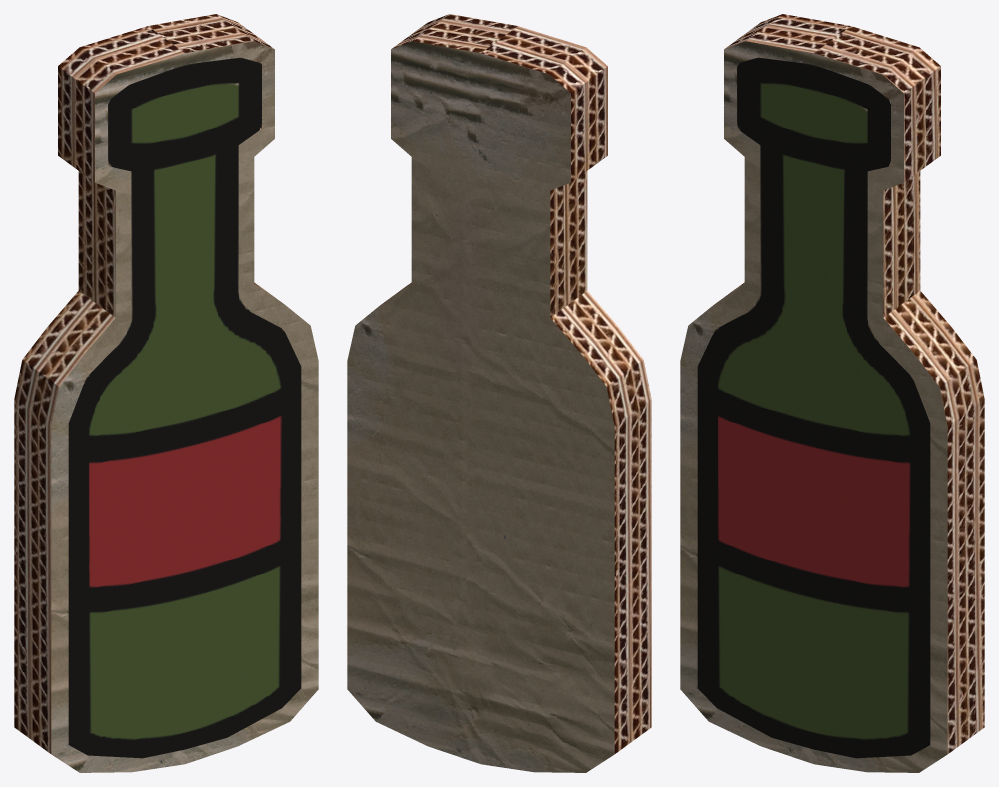
The model's file is bottle1.fbx.
The picture shows the model from 3 angles, left to right: view 1: azimuth 30°, elevation 25°; view 2: azimuth 150°, elevation 25°; view 3: azimuth 330°, elevation 25°; orthographic projection.
Visible parts, largest first — view 1: bottle1; view 2: bottle1; view 3: bottle1.
Part boxes in pixels (x1,y1,x2,y2): bottle1: (14,14,318,772); bottle1: (347,14,651,772); bottle1: (680,14,984,772).
Size of the model in its own units: 33.3 by 84.61 by 8.
